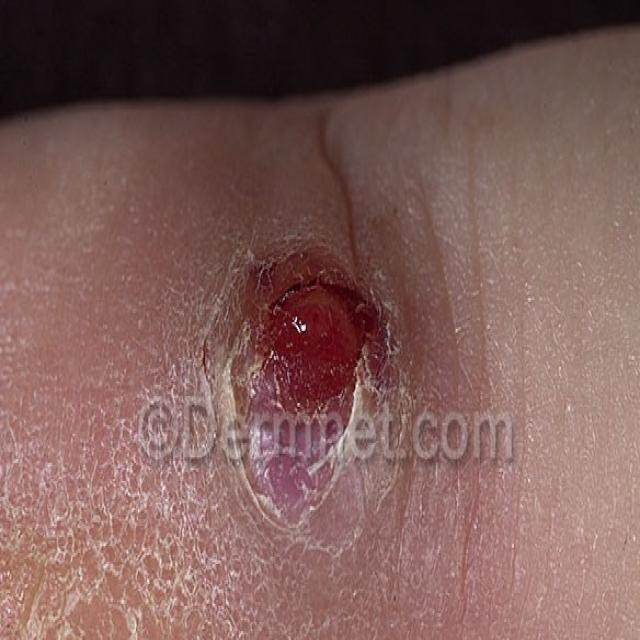Vascular Tumors: (181, 242, 427, 581)
